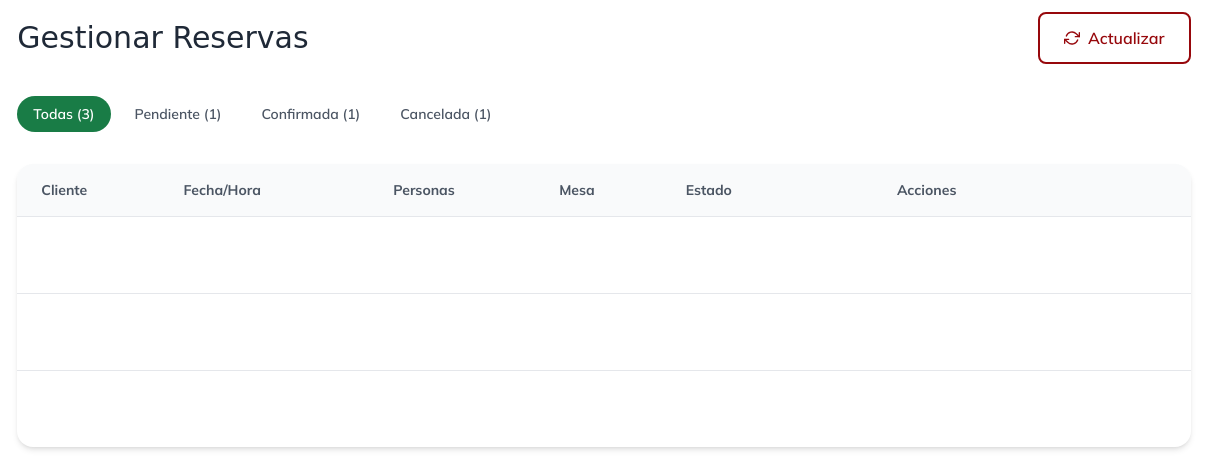
Scenario: AdminReservations › filters reservations by status
Click the button "Confirmada (1)" at (311, 114), box [246, 96, 376, 132]
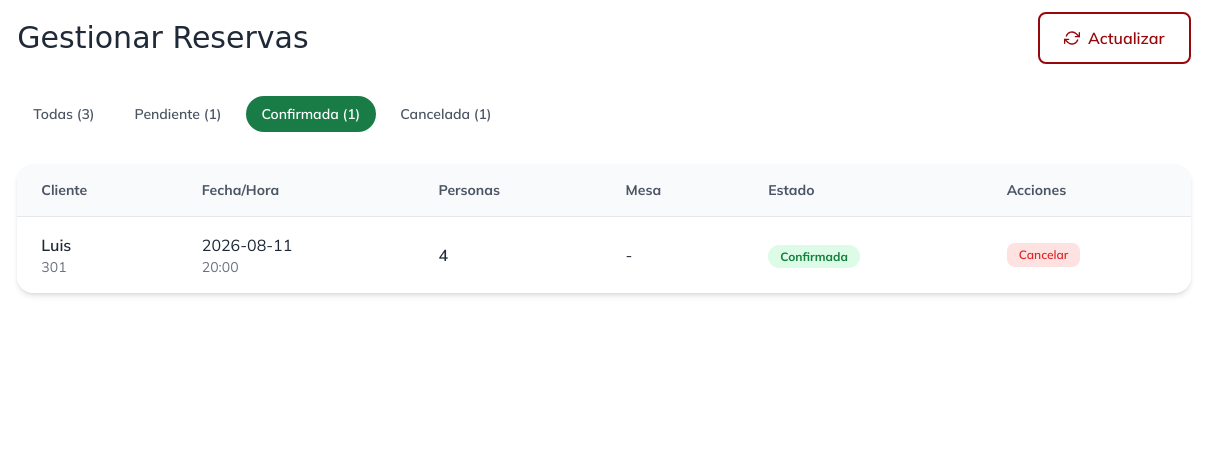
Check: the text "Luis" is shown, box [41, 235, 71, 255]
